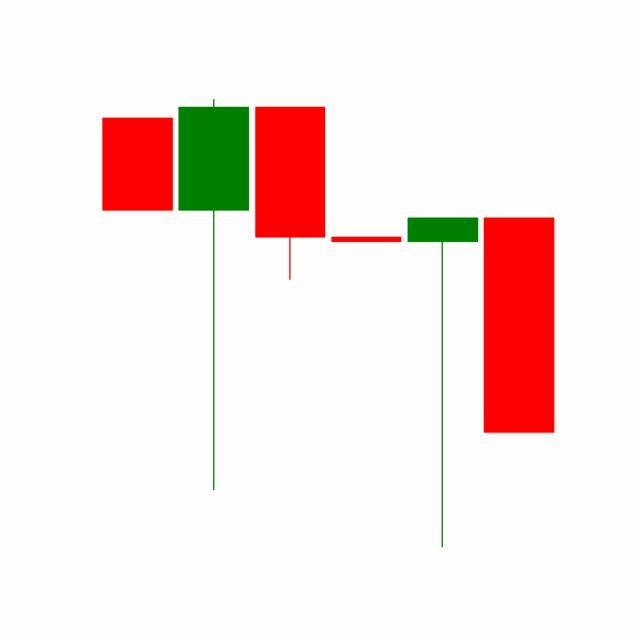Hanging Man: (404, 214, 482, 552)
